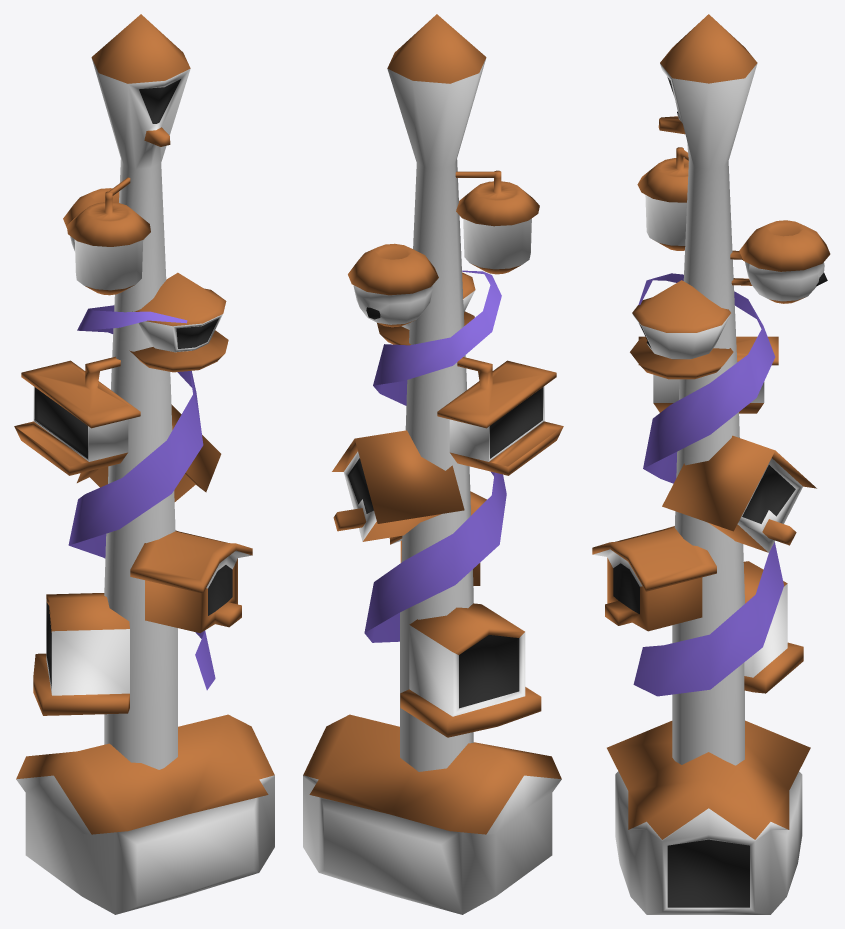
File: Main Base.fbx
The picture shows the model from 3 angles, left to right: view 1: azimuth 30°, elevation 25°; view 2: azimuth 150°, elevation 25°; view 3: azimuth 270°, elevation 25°; orthographic projection.
Visible parts, largest first — view 1: Main Base; view 2: Main Base; view 3: Main Base.
Part boxes in pixels (<box>): Main Base: <box>14,14,274,914</box>; Main Base: <box>303,14,563,914</box>; Main Base: <box>592,14,830,914</box>.
Size of the model in its own units: 621 by 2402 by 604.
